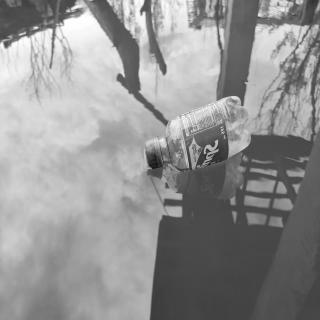bottle: (143, 92, 254, 175)
